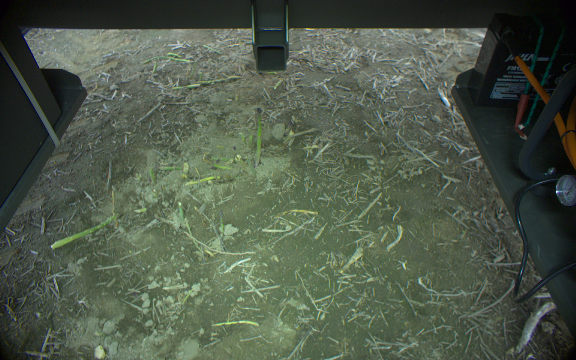aspa: (48, 212, 125, 253), (168, 74, 241, 91), (139, 49, 195, 64), (253, 107, 266, 166), (209, 317, 260, 328), (183, 171, 220, 184), (146, 166, 157, 184), (157, 165, 182, 170)
